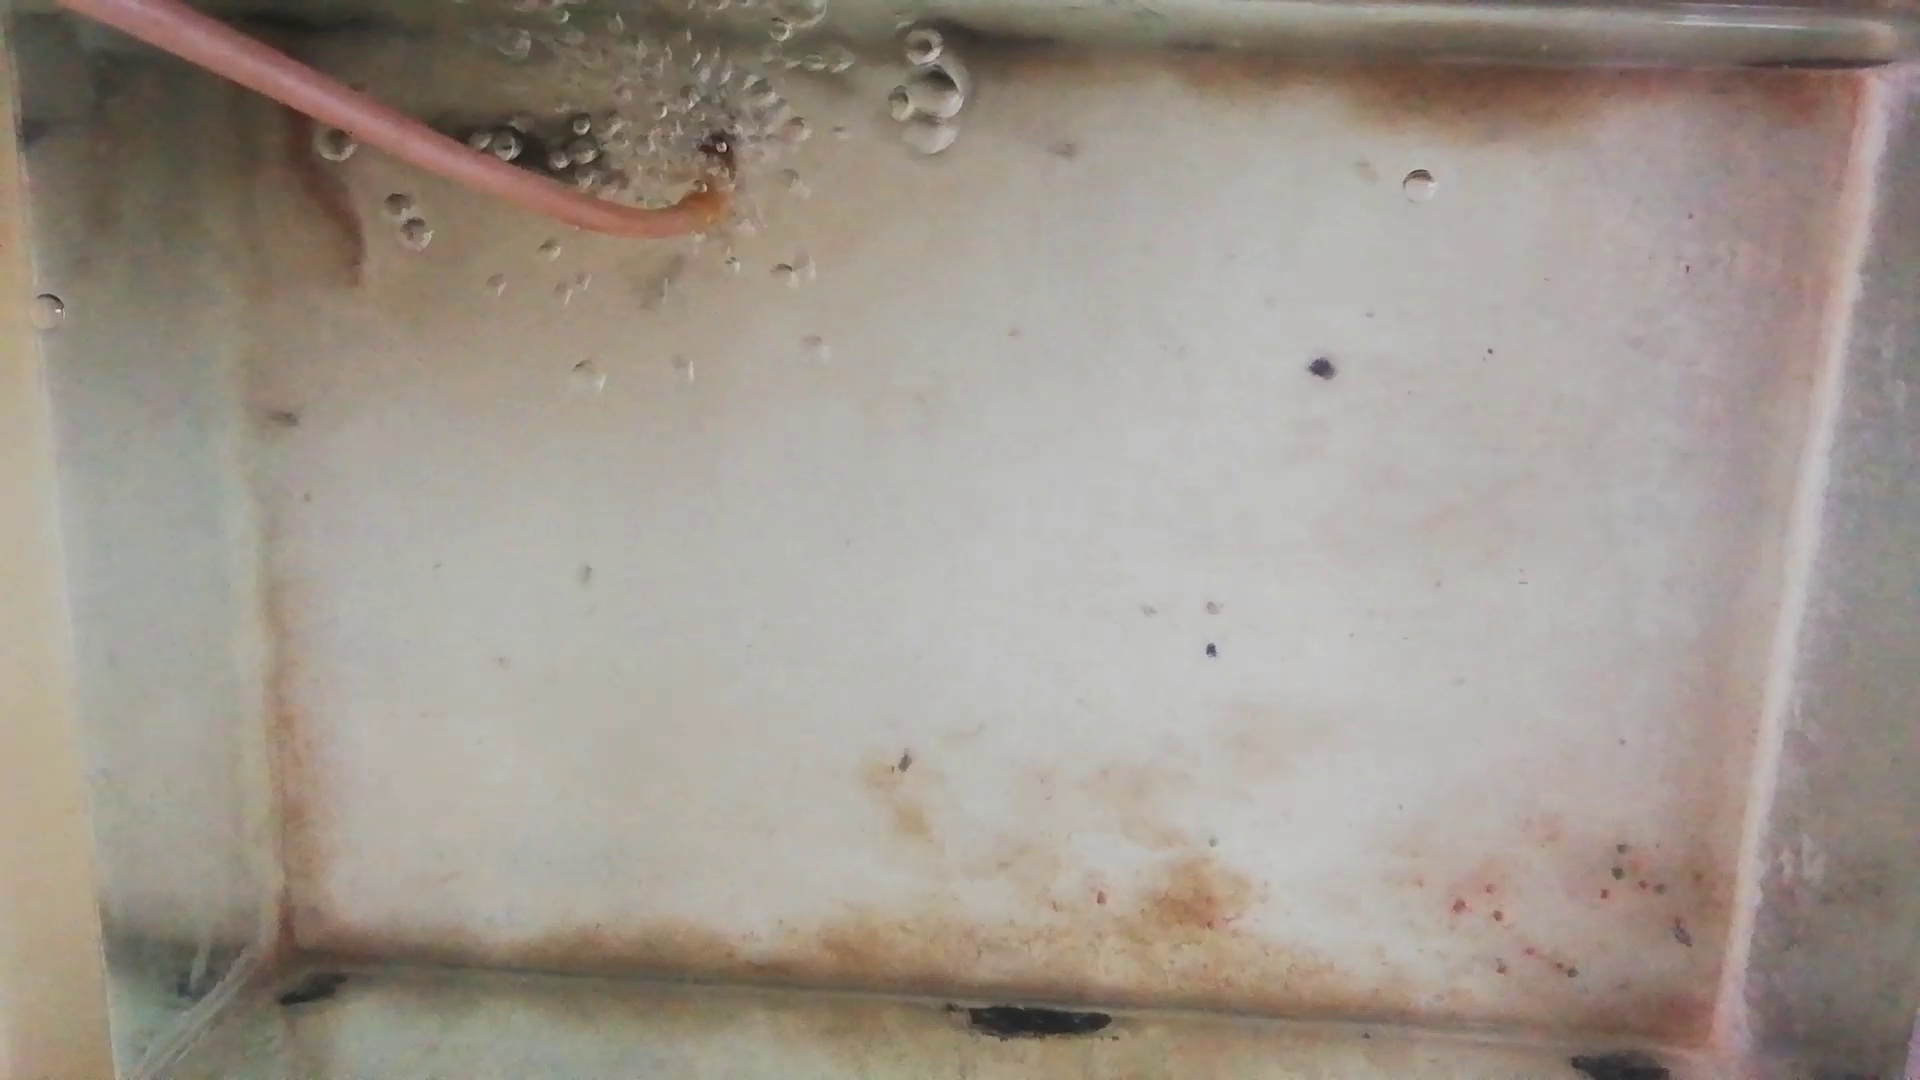fish: (289, 105, 372, 280), (439, 115, 625, 183)
